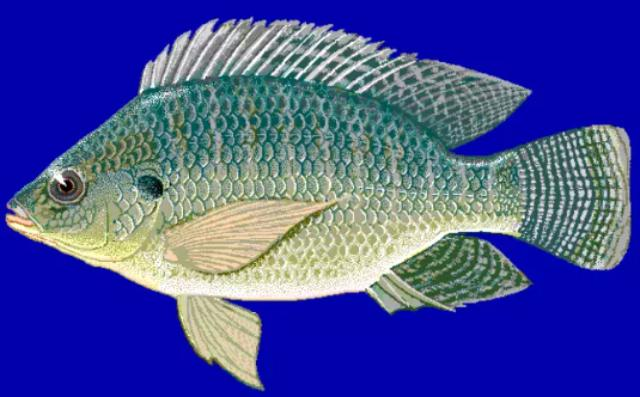Mulut: (1, 172, 42, 260)
Sirip Anal: (356, 230, 540, 330)
Sirip Dada: (152, 186, 354, 282)
Sirip Ekor: (500, 102, 640, 282)
Sirip Perut: (162, 285, 272, 397)
Sirip Punggung: (124, 10, 550, 158)
